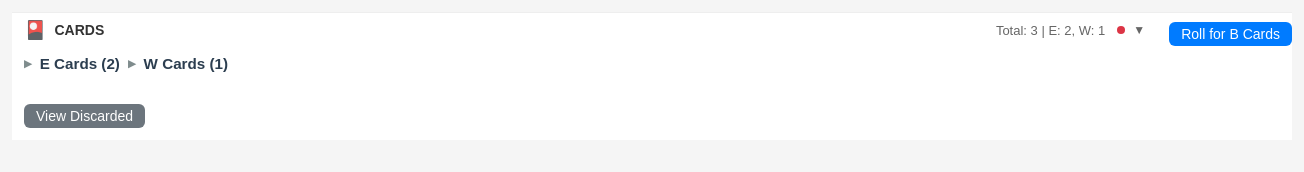
it: CardsSection › Roll for Cards Actions › should handle roll errors
Click the button "Roll for B Cards" at (1231, 34), box [1169,22,1292,46]
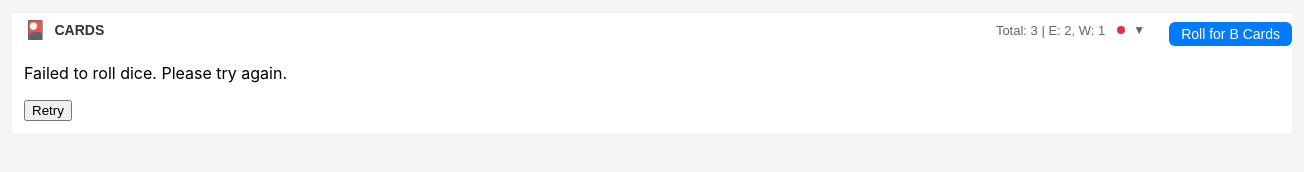
Expected: the text "Failed to roll dice. Please try again." is shown, [24,63,287,83]
